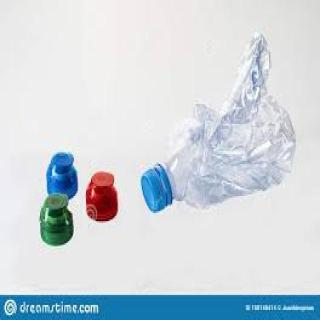Anorganik: (142, 34, 298, 218)
